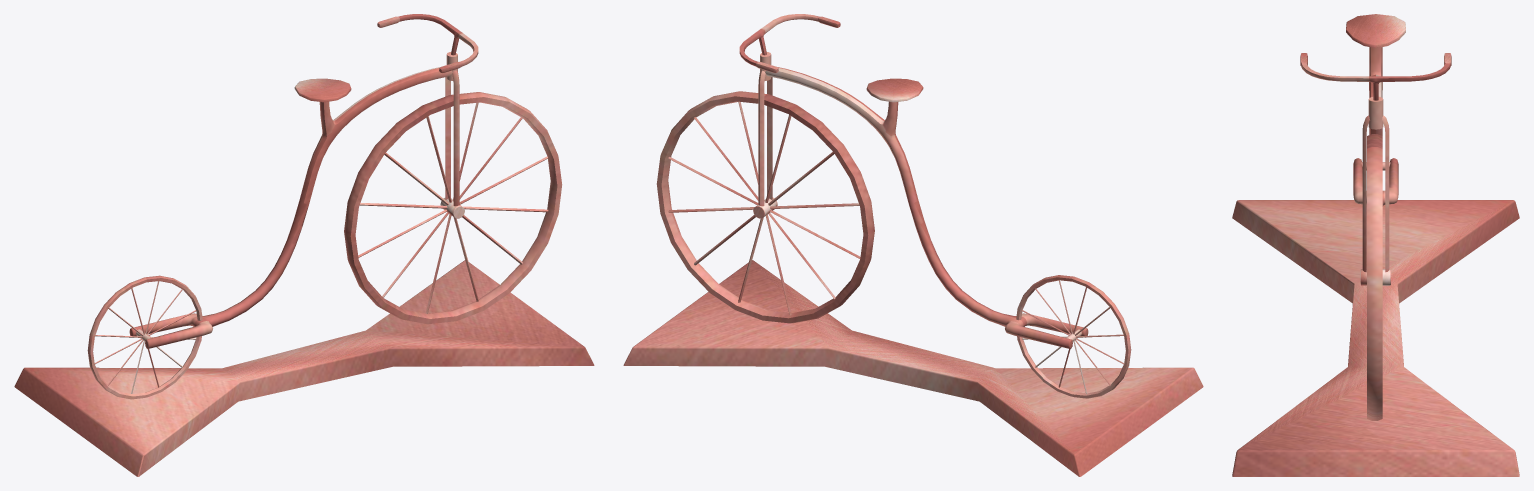
The model's file is aws_Bicycle_01_visual.DAE.
3 views of the same model, side by side, from view 1: azimuth 30°, elevation 25°; view 2: azimuth 150°, elevation 25°; view 3: azimuth 270°, elevation 25° (orthographic). The views are drawn at different scales.
Visible parts, largest first — view 1: aws_Bicycle_01_visual; view 2: aws_Bicycle_01_visual; view 3: aws_Bicycle_01_visual.
Boxes of the visible parts, box(x1,y1,x2,y2) form: aws_Bicycle_01_visual: box(14, 14, 594, 476); aws_Bicycle_01_visual: box(623, 14, 1203, 476); aws_Bicycle_01_visual: box(1232, 14, 1519, 476).
Size of the model in its own units: 19.18 by 8.49 by 11.63.
1 material, 1 textured.
